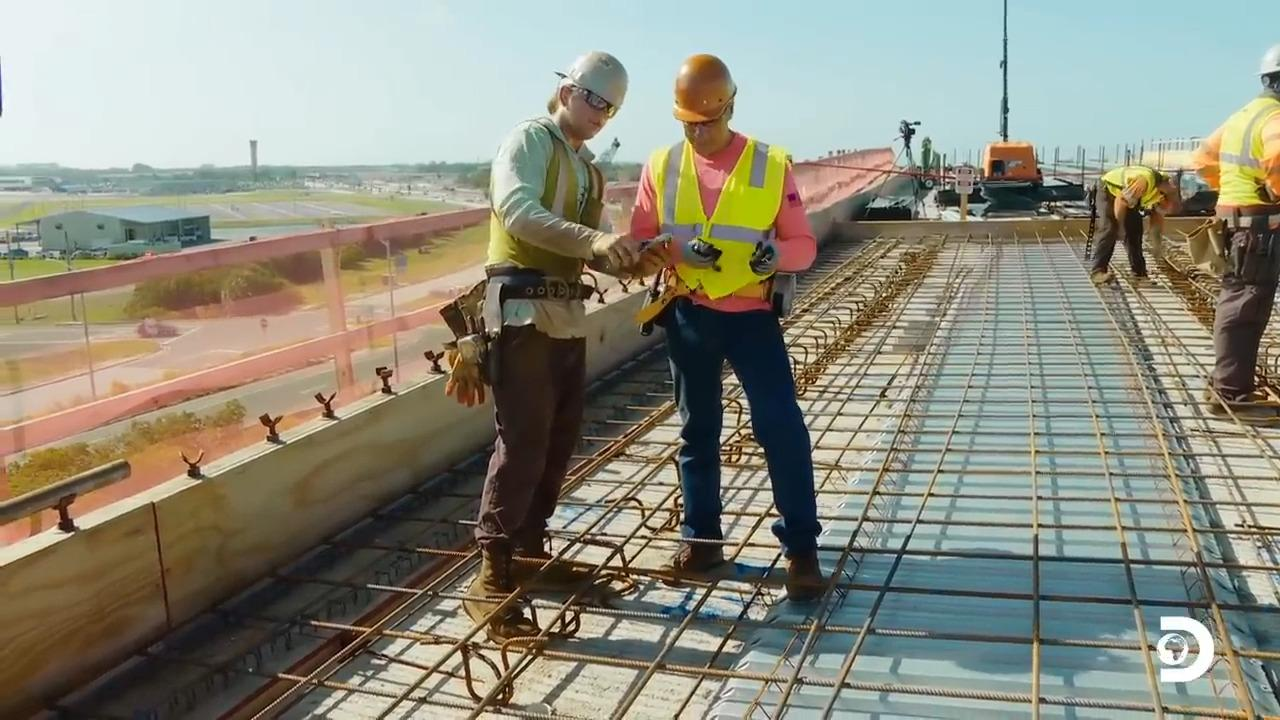Gloves: (591, 229, 645, 264), (678, 241, 723, 277), (747, 240, 774, 273)
Helmet: (560, 49, 628, 115), (672, 53, 736, 123), (1256, 43, 1279, 76)
Person: (447, 49, 670, 610), (628, 53, 830, 602), (1191, 43, 1279, 415), (1085, 164, 1181, 285)
Safety Boot: (468, 567, 531, 649), (514, 559, 592, 595), (774, 543, 829, 589), (1205, 387, 1269, 418), (671, 539, 726, 569), (1088, 267, 1120, 283)
Safety Vest: (652, 152, 772, 296), (493, 135, 590, 280), (1224, 111, 1275, 213), (1111, 171, 1156, 208)
